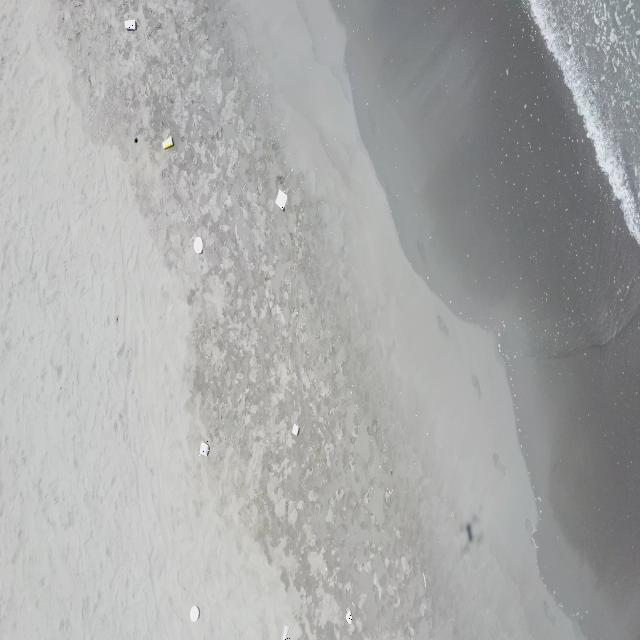take-away-containers: (275, 189, 288, 211), (192, 236, 202, 255), (189, 606, 199, 622), (199, 442, 209, 458), (292, 421, 300, 437), (346, 609, 352, 625)
takeaway-cup: (162, 135, 174, 150), (280, 623, 290, 640), (123, 18, 136, 31)
